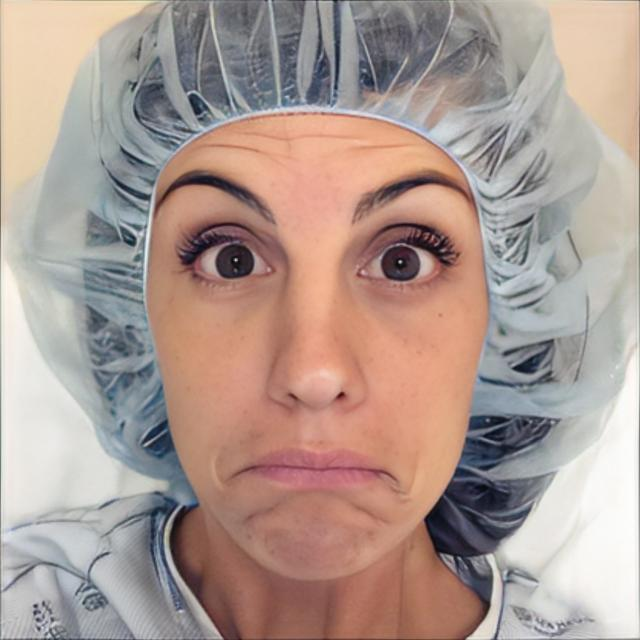fear: (148, 109, 490, 580)
